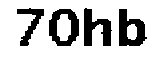0: (46, 5, 81, 52)
7: (13, 5, 45, 50)
b: (118, 8, 151, 51)
h: (82, 6, 116, 51)
